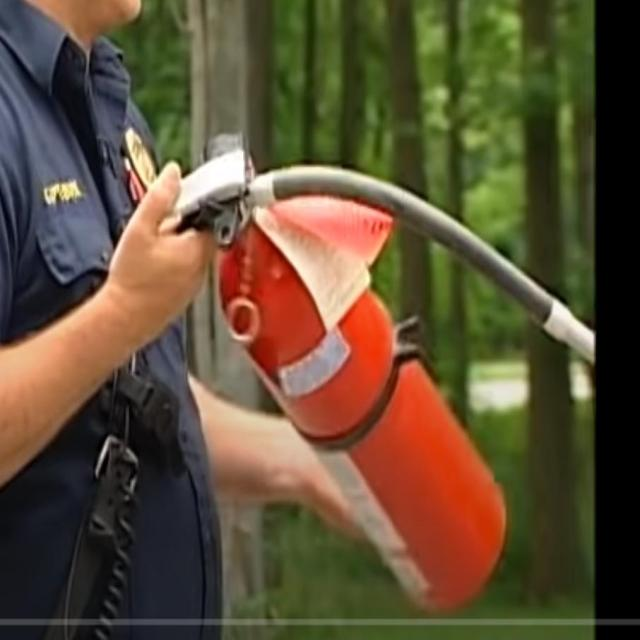fire_extinguisher: (138, 126, 595, 624)
